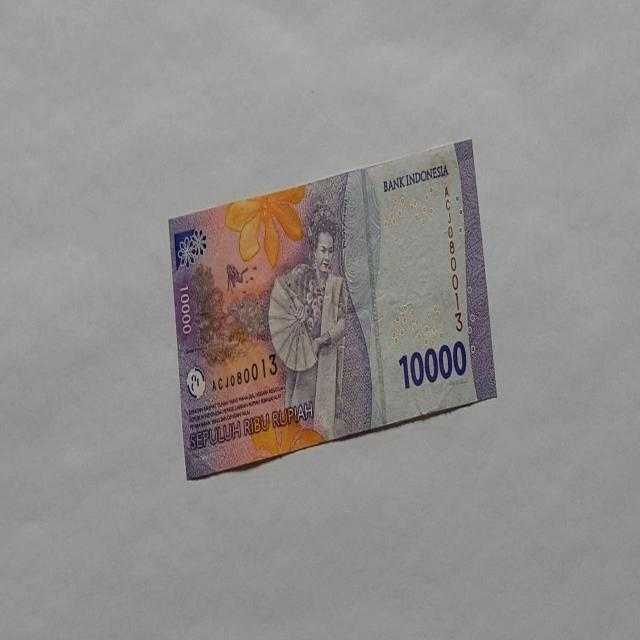Kertas: (167, 137, 497, 481), (398, 339, 468, 389)
